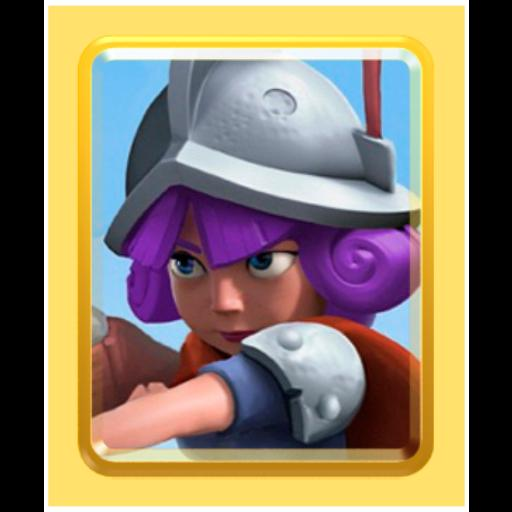musketeer: (90, 54, 420, 454)
